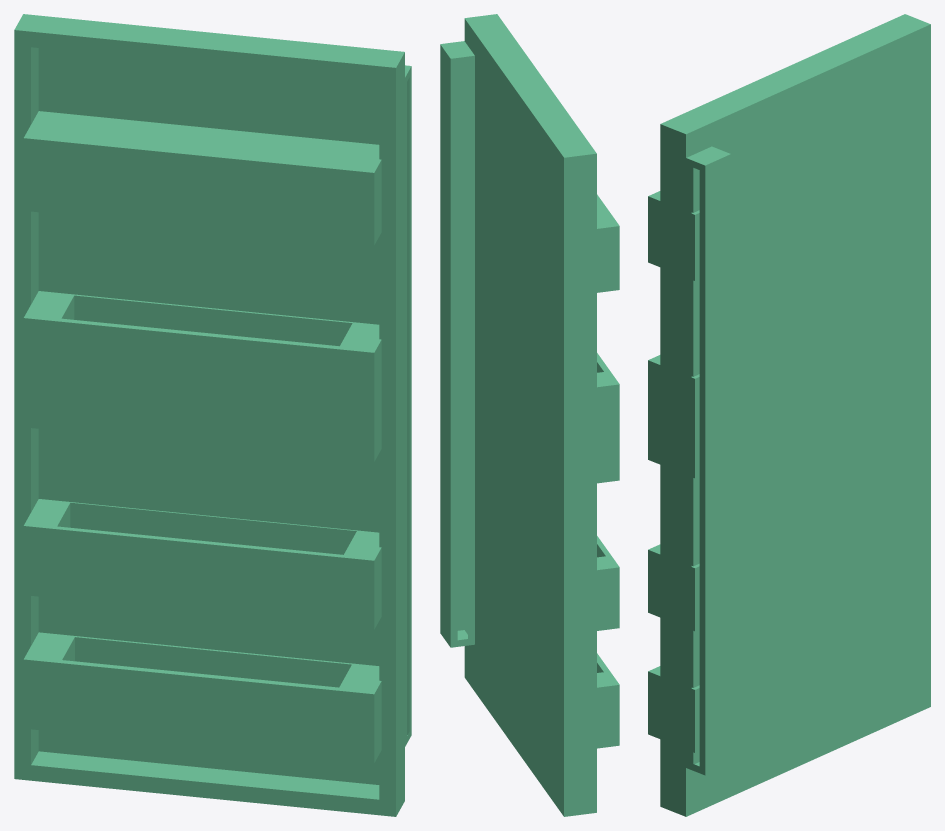
The model's file is drzwi.glb.
3 views of the same model, side by side, from view 1: azimuth 30°, elevation 25°; view 2: azimuth 150°, elevation 25°; view 3: azimuth 270°, elevation 25° (orthographic). The views are drawn at different scales.
Visible parts, largest first — view 1: Cube.038; view 2: Cube.038; view 3: Cube.038.
Boxes of the visible parts, box(x1,y1,x2,y2) form: Cube.038: box(14, 14, 411, 816); Cube.038: box(440, 14, 619, 816); Cube.038: box(648, 14, 930, 816).
Bounding box in the file's own units: 0.5523 × 1.34 × 0.5014.
